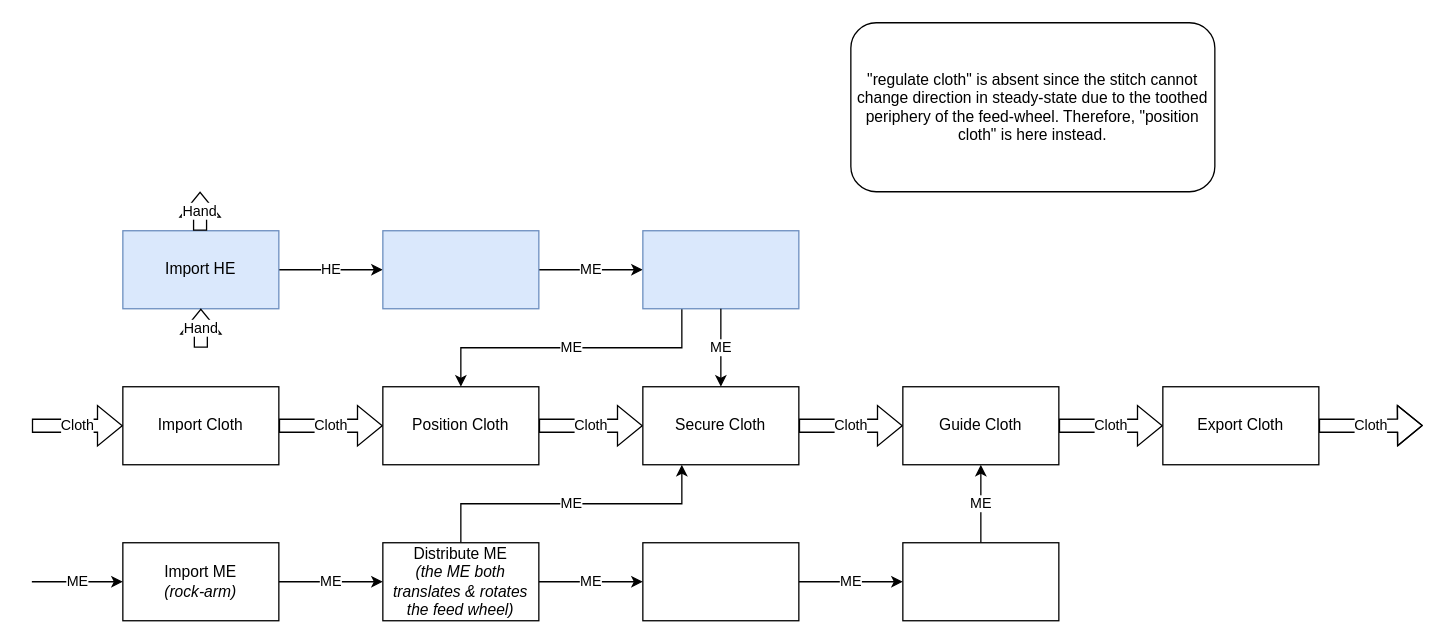
The diagram is 1446 pixels wide and 644 high, and some of its shapes have lost their labels. Each missing label, with the centre of its shape:
"Change ME (The teeth of the feed wheel functionally converts RE to TE" belongs at (720,581).
"Convert HE to ME" belongs at (460,269).
"Distribute ME" belongs at (720,269).
"Transfer ME (the feed wheel transfers ME to the cloth)" belongs at (980,581).
